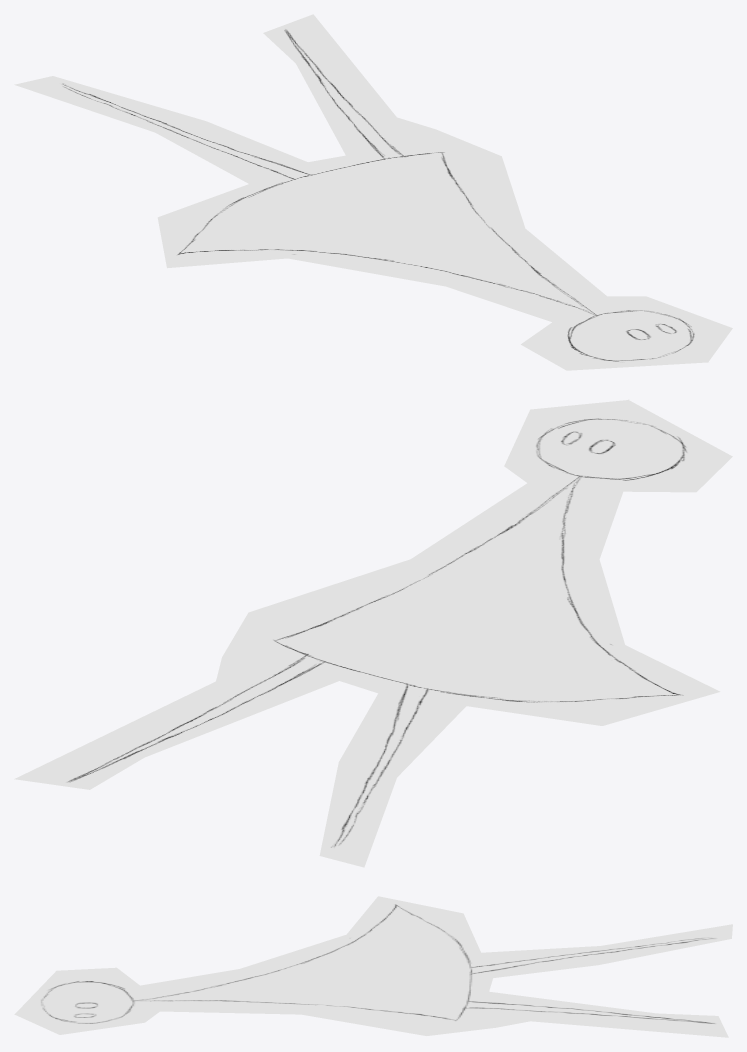
The model's file is kyarakuta_walk.fbx.
3 renders of one model, top to bottom at view 1: azimuth 30°, elevation 25°; view 2: azimuth 150°, elevation 25°; view 3: azimuth 270°, elevation 25°, orthographic. The views are drawn at different scales.
Visible parts, largest first — view 1: Plane; view 2: Plane; view 3: Plane.
Part boxes in pixels (<box>): Plane: <box>14,14,732,370</box>; Plane: <box>14,399,732,867</box>; Plane: <box>14,896,732,1037</box>.
Bounding box in the file's own units: 8.08 × 2.82e-06 × 17.34.
